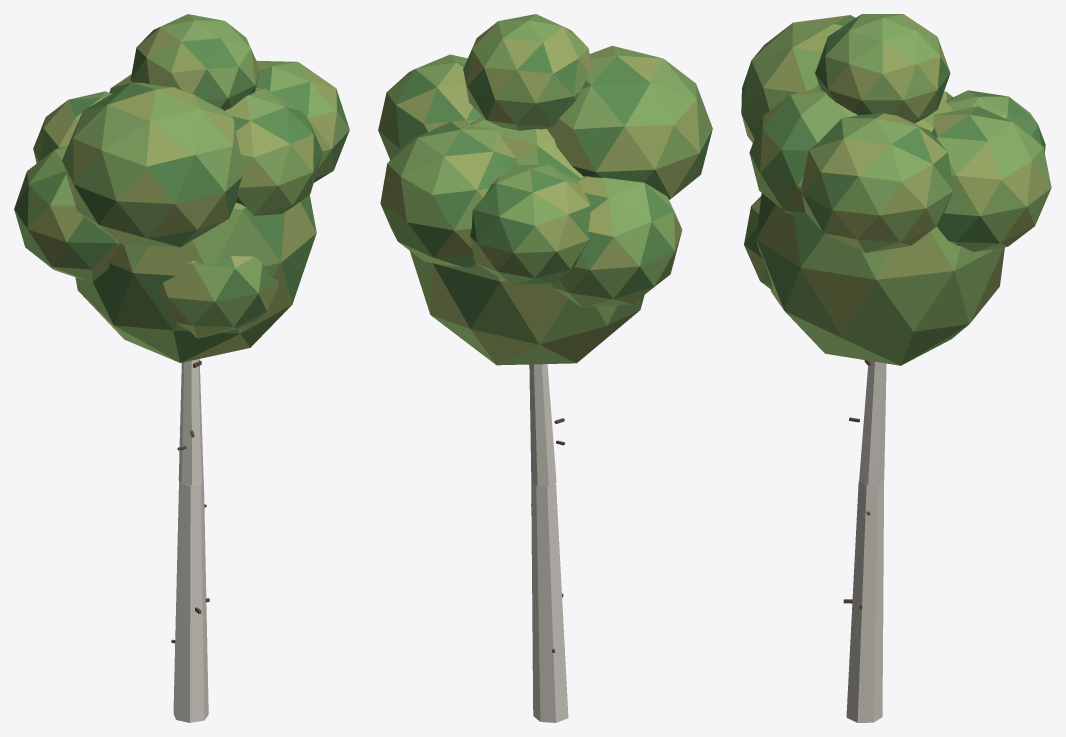
File: tree_birch.glb
3 renders of one model, left to right at view 1: azimuth 30°, elevation 25°; view 2: azimuth 150°, elevation 25°; view 3: azimuth 270°, elevation 25°, orthographic. The views are drawn at different scales.
Visible parts, largest first — view 1: tree_birch; view 2: tree_birch; view 3: tree_birch.
Part boxes in pixels (bbox=[...]): tree_birch: bbox=[14, 14, 349, 722]; tree_birch: bbox=[378, 14, 712, 722]; tree_birch: bbox=[741, 14, 1051, 722].
Size of the model in its own units: 3.22 by 7.11 by 2.84.
